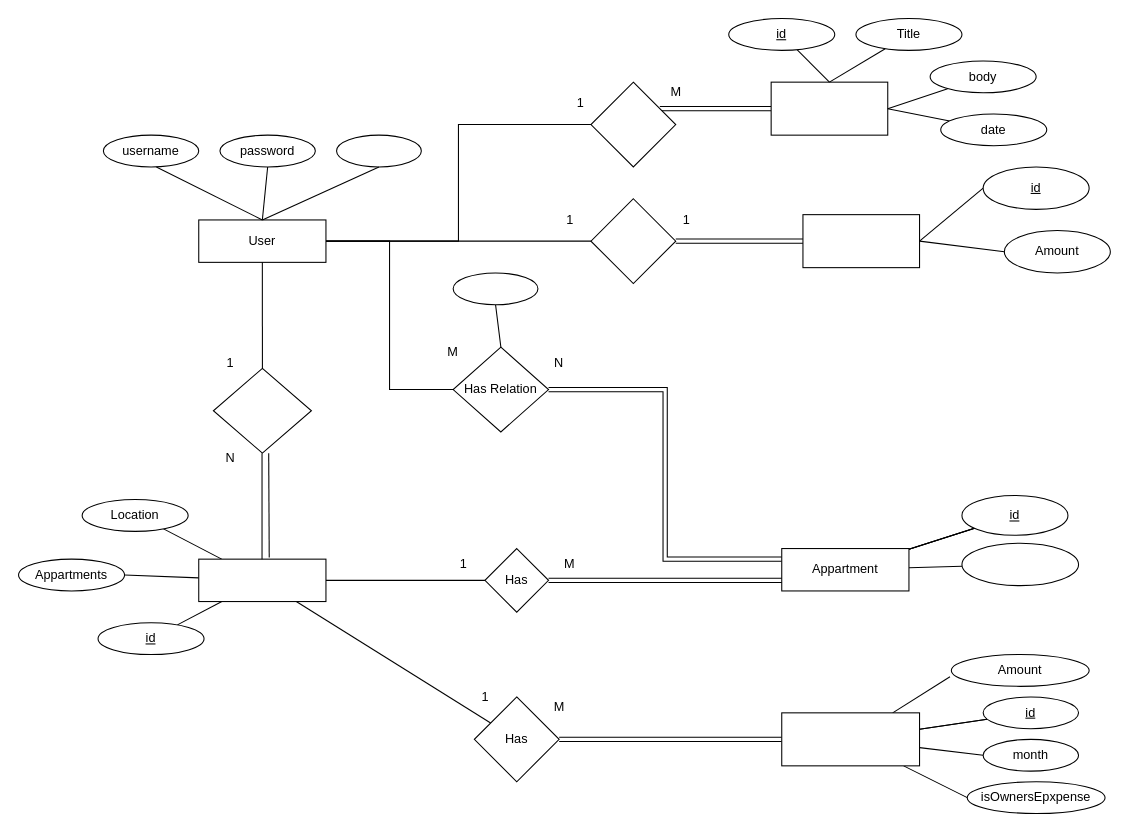
This 1129x832 diagram has some shape labels left out. The box of each missing label's shape, as (x1, y1, x2, y2) in pixels:
Administrates: (212, 367, 311, 453)
Announcements: (770, 81, 888, 135)
Appartment Building: (198, 558, 326, 602)
Dept: (802, 214, 920, 268)
email: (335, 134, 421, 167)
Epxenses: (781, 712, 920, 766)
floor: (961, 542, 1079, 586)
Has to Pay: (590, 198, 676, 284)
Publishes: (590, 81, 676, 167)
relation type: (452, 272, 538, 305)
